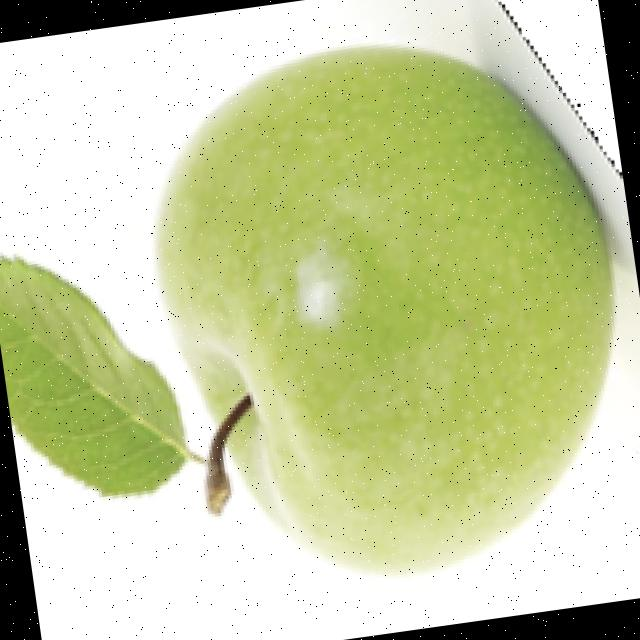apple: (0, 0, 635, 581)
